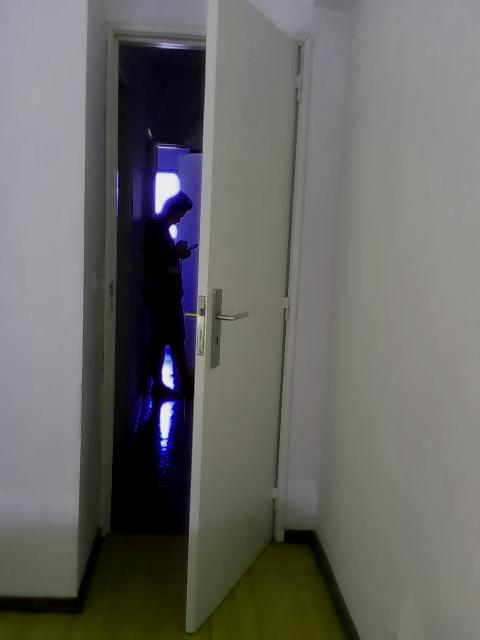semi_door: (99, 2, 311, 638)
